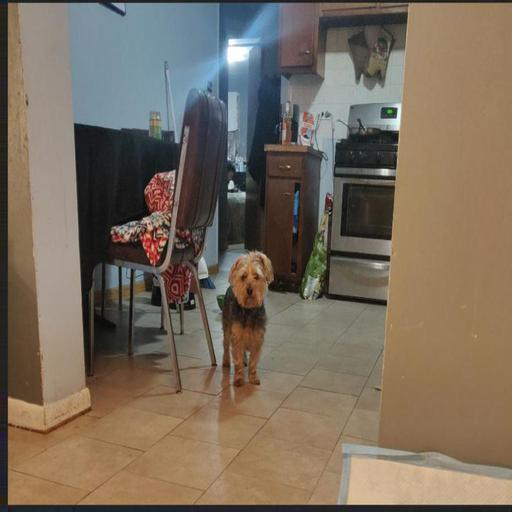dog: (192, 251, 305, 364)
